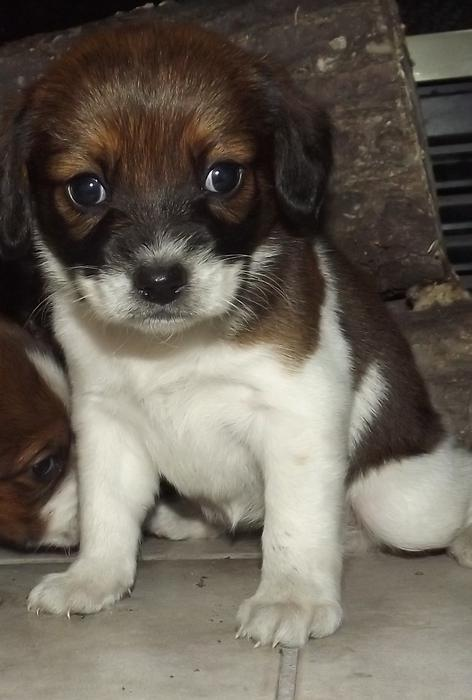dog: (3, 28, 472, 650)
